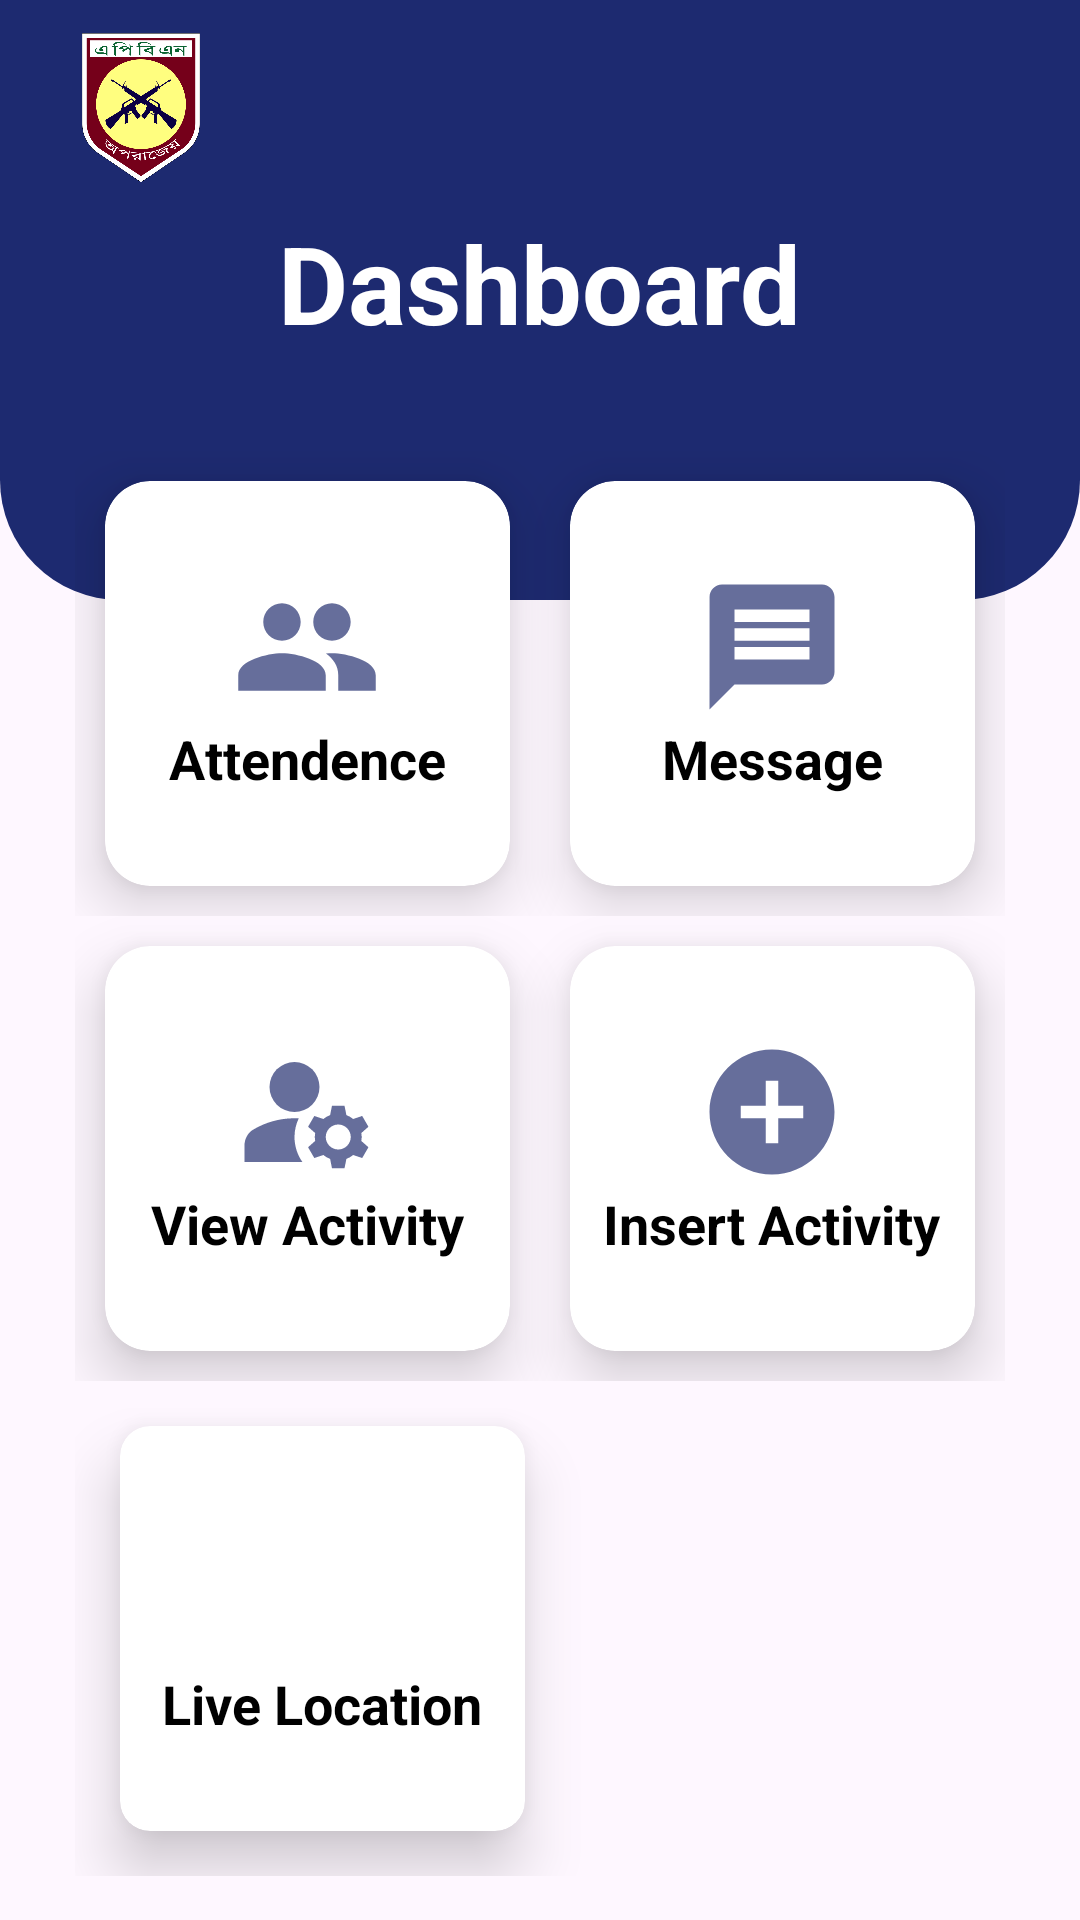

Icons on this 1080 x 1920 Android screen, each with its box as region(x1, y1, x2, y2):
add circle: region(709, 1049, 835, 1175)
manage accounts: region(244, 1062, 369, 1169)
people: region(238, 603, 376, 691)
